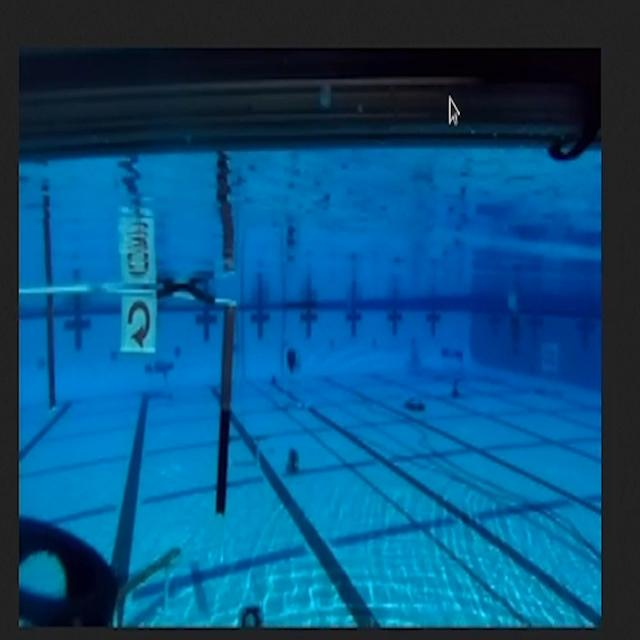Gate: (22, 276, 249, 522)
